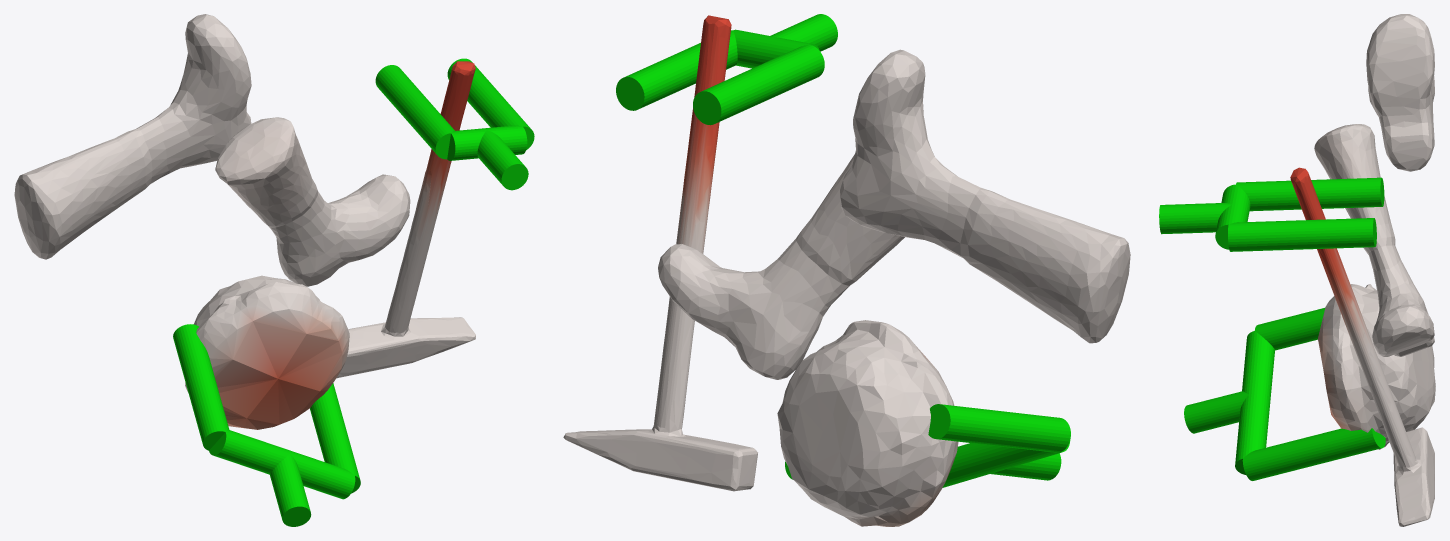
The model's file is round_000_trial_001.obj.
3 renders of one model, left to right at view 1: azimuth 30°, elevation 25°; view 2: azimuth 150°, elevation 25°; view 3: azimuth 270°, elevation 25°, orthographic. The views are drawn at different scales.
Parts seen in each view (by area): view 1: geometry_0, geometry_2, geometry_1; view 2: geometry_0, geometry_1, geometry_2; view 3: geometry_0, geometry_1, geometry_2.
Part boxes in pixels (left/top/right/bottom): geometry_0: left=14, top=14, right=475, bottom=429; geometry_2: left=173, top=324, right=360, bottom=526; geometry_1: left=375, top=58, right=534, bottom=190; geometry_0: left=563, top=15, right=1130, bottom=526; geometry_1: left=616, top=14, right=837, bottom=125; geometry_2: left=785, top=404, right=1070, bottom=487; geometry_0: left=1290, top=14, right=1435, bottom=526; geometry_1: left=1159, top=177, right=1384, bottom=251; geometry_2: left=1184, top=308, right=1385, bottom=480.
Bounding box in the file's own units: 0.1775 × 0.1638 × 0.0945.
